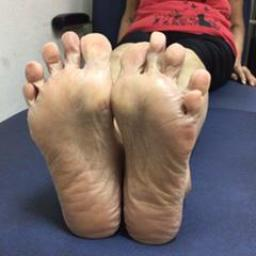Plantar View -Both Feet-: (14, 21, 214, 252)
